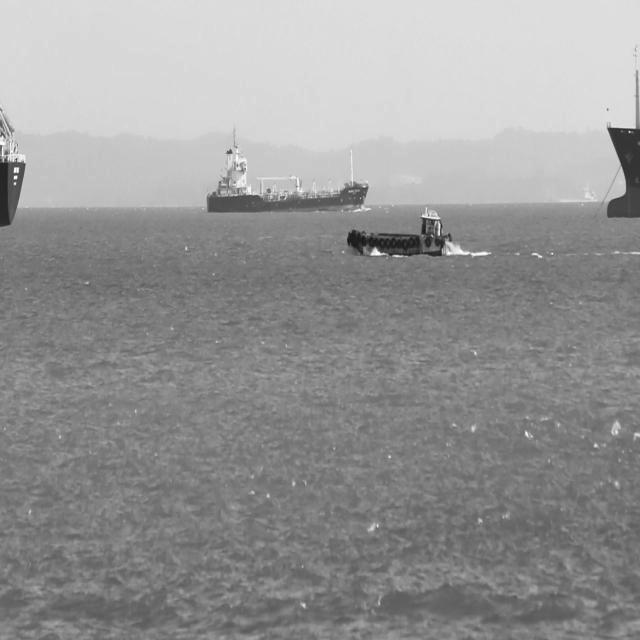ship: (206, 124, 370, 214), (346, 206, 454, 260), (606, 44, 639, 219), (0, 103, 25, 227)
